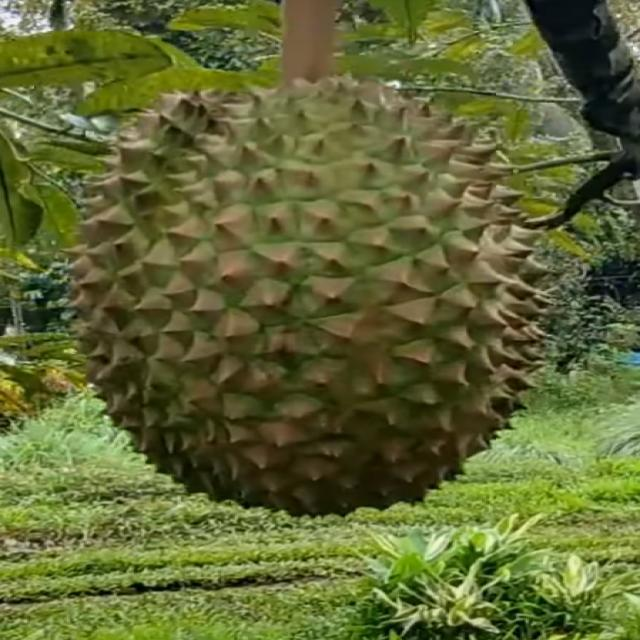mature: (73, 82, 541, 520)
